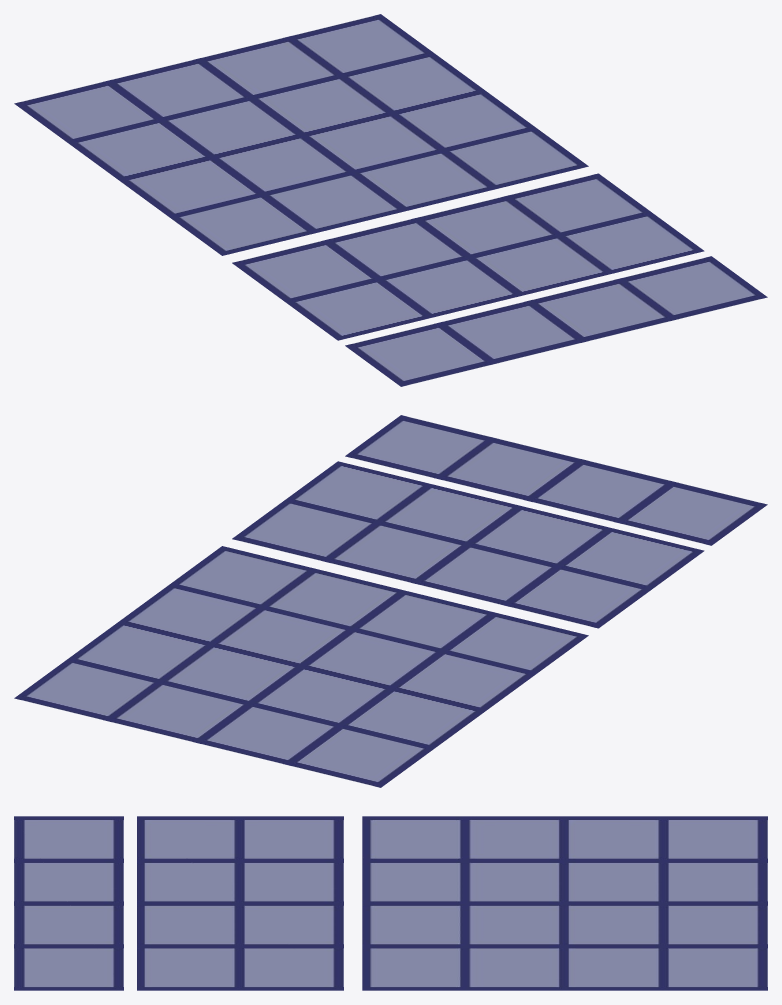
Rendered from Blocky Out_Nen.fbx.
The picture shows the model from 3 angles, top to bottom: view 1: azimuth 30°, elevation 25°; view 2: azimuth 150°, elevation 25°; view 3: azimuth 270°, elevation 25°; orthographic projection. The views are drawn at different scales.
Visible parts, largest first — view 1: Plane, Plane.001, Plane.002; view 2: Plane, Plane.001, Plane.002; view 3: Plane, Plane.001, Plane.002.
Boxes of the visible parts, x1,y1,x2,y2 form: Plane: (14, 14, 588, 255); Plane.001: (232, 173, 704, 340); Plane.002: (345, 256, 767, 386); Plane: (14, 546, 588, 787); Plane.001: (232, 461, 704, 628); Plane.002: (345, 415, 767, 545); Plane: (362, 816, 767, 990); Plane.001: (137, 816, 343, 990); Plane.002: (14, 816, 123, 990).
Bounding box in the file's own units: 8.57 × 15.66 × 0.
